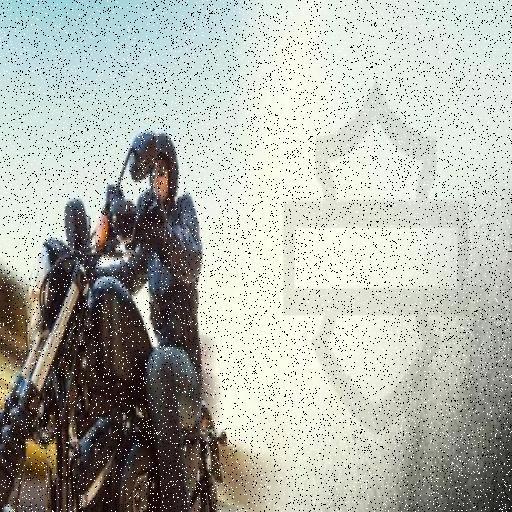Helmet: (140, 129, 182, 208)
Motor: (5, 227, 247, 512)
